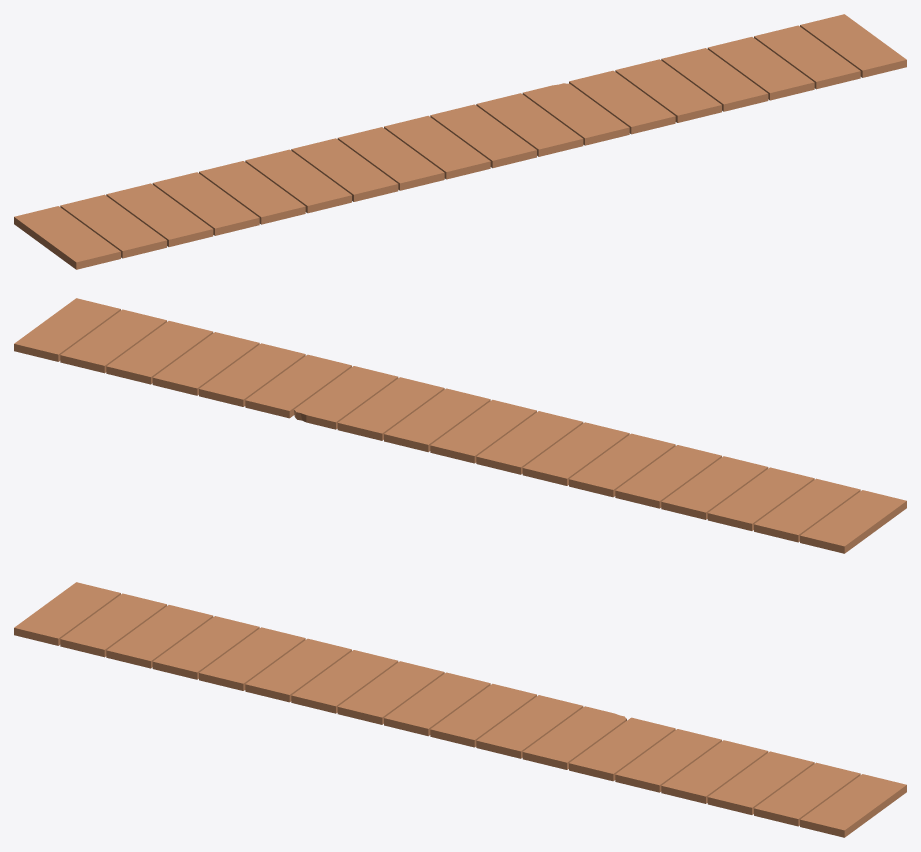
Rendered from Floor2.fbx.
3 views of the same model, one above another, from view 1: azimuth 30°, elevation 25°; view 2: azimuth 150°, elevation 25°; view 3: azimuth 330°, elevation 25° (orthographic).
Parts seen in each view (by area): view 1: Cube.002; view 2: Cube.002; view 3: Cube.002.
Boxes of the visible parts, x1,y1,x2,y2 form: Cube.002: (14,14,906,269); Cube.002: (14,298,906,553); Cube.002: (14,582,906,837).
Size of the model in its own units: 1924 by 16.39 by 250.
